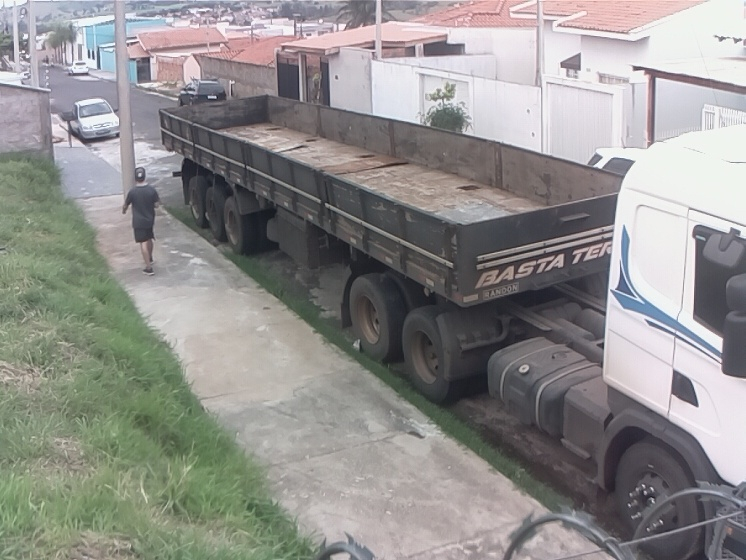person: (119, 165, 160, 277)
